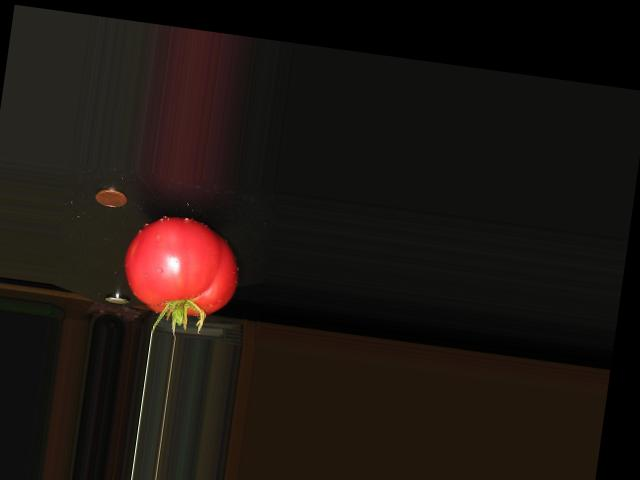tomato: (119, 210, 246, 323)
